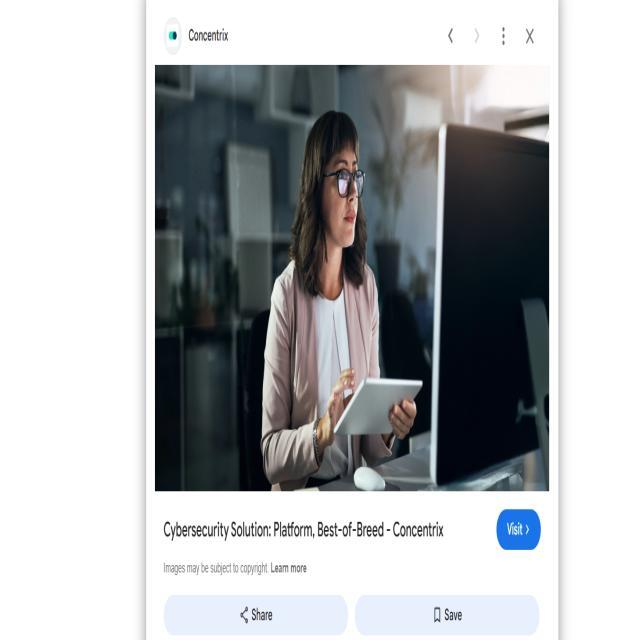face_no_mask: (324, 151, 362, 248)
